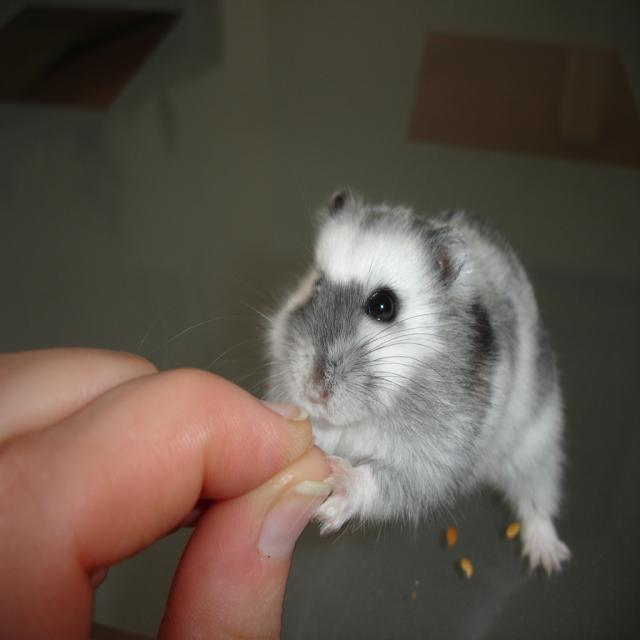rat: (262, 186, 571, 576)
